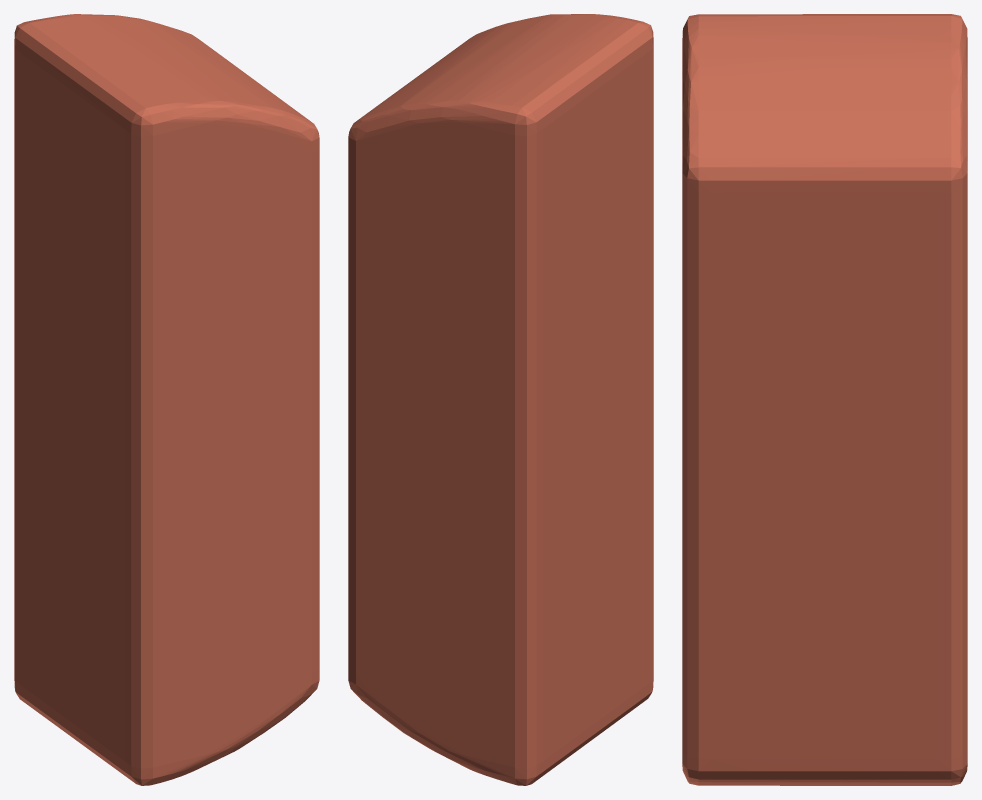
The model's file is left_forearm_collision_part_9.obj.
The picture shows the model from 3 angles, left to right: view 1: azimuth 30°, elevation 25°; view 2: azimuth 150°, elevation 25°; view 3: azimuth 270°, elevation 25°; orthographic projection. The views are drawn at different scales.
Bounding box in the file's own units: 39.84 × 137 × 48.17.
